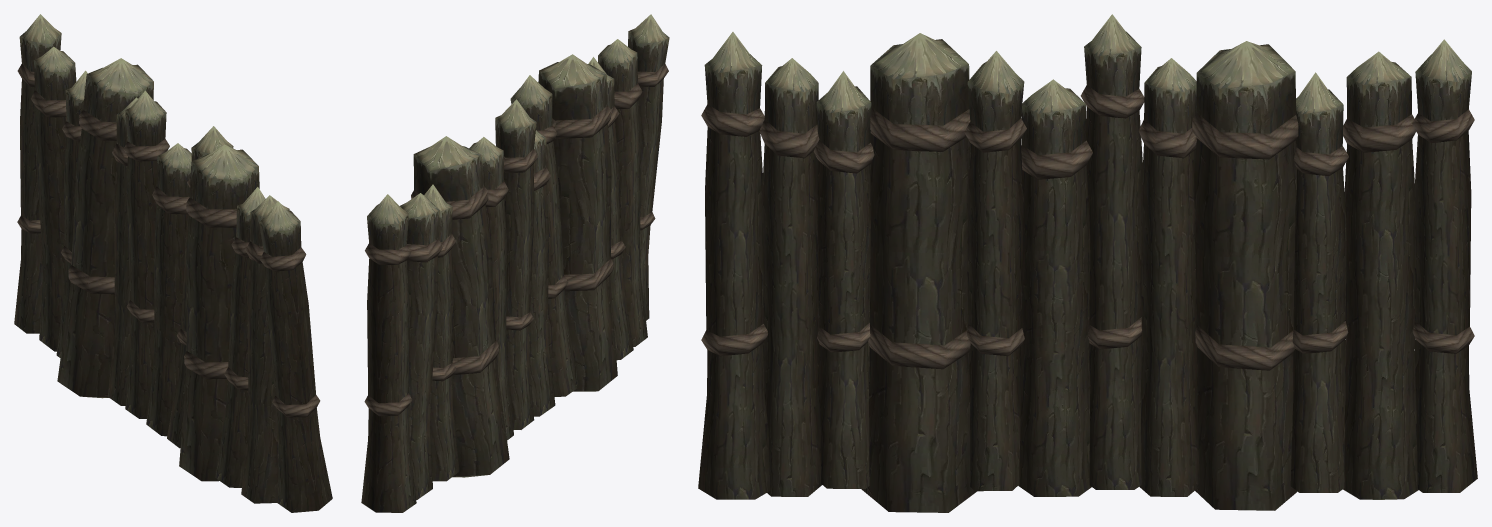
3 renders of one model, left to right at view 1: azimuth 30°, elevation 25°; view 2: azimuth 150°, elevation 25°; view 3: azimuth 270°, elevation 25°, orthographic. The views are drawn at different scales.
Size of the model in its own units: 1.44 by 5.91 by 8.55.
1 material, 1 textured.
